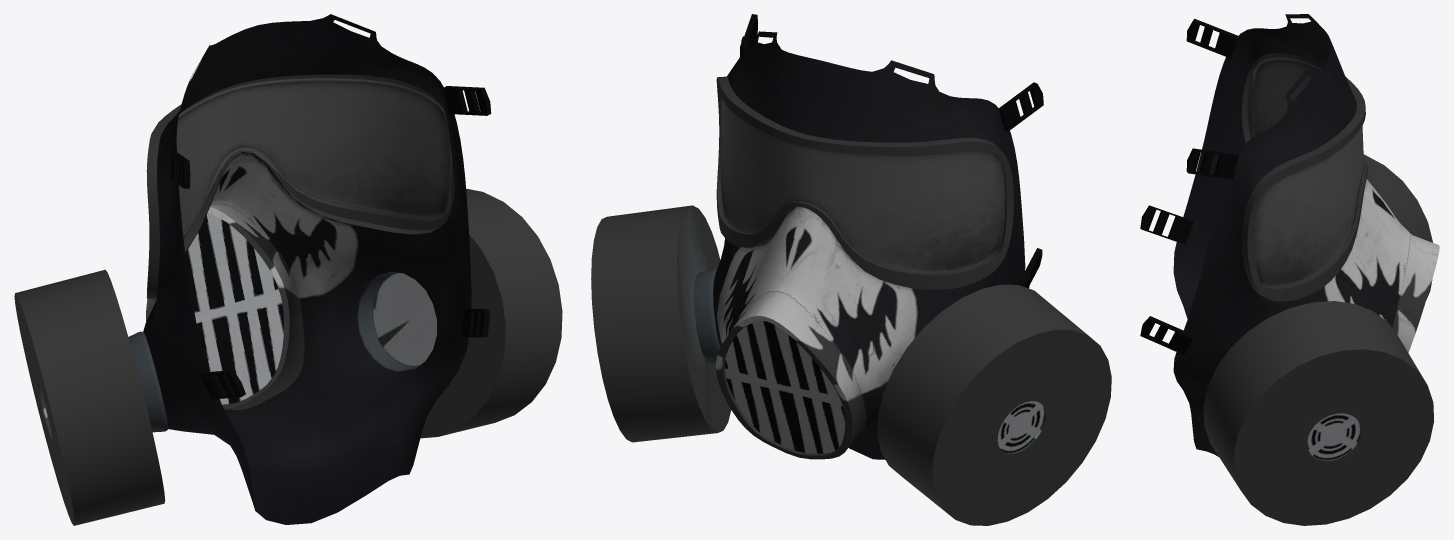
The model's file is gas_mask_skull.glb.
3 views of the same model, side by side, from view 1: azimuth 30°, elevation 25°; view 2: azimuth 150°, elevation 25°; view 3: azimuth 270°, elevation 25° (orthographic). The views are drawn at different scales.
Parts seen in each view (by area): view 1: gas_mask_skull_3, gas_mask_skull_2; view 2: gas_mask_skull_3, gas_mask_skull_2; view 3: gas_mask_skull_3, gas_mask_skull_2.
Part boxes in pixels (x1=…): gas_mask_skull_3: x1=14, y1=14, x2=562, y2=525; gas_mask_skull_2: x1=171, y1=86, x2=491, y2=399; gas_mask_skull_3: x1=591, y1=31, x2=1111, y2=525; gas_mask_skull_2: x1=740, y1=14, x2=1043, y2=288; gas_mask_skull_3: x1=1173, y1=14, x2=1439, y2=525; gas_mask_skull_2: x1=1140, y1=18, x2=1238, y2=354.
Size of the model in its own units: 0.289 by 0.2526 by 0.1644.
2 materials, 1 textured.
